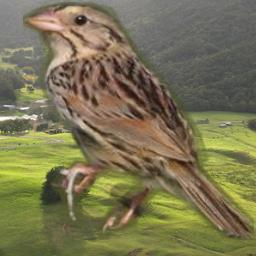Sparrow: (23, 0, 254, 240)
